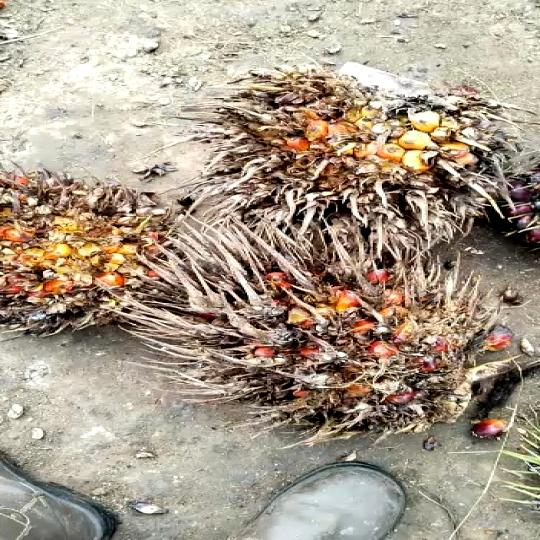terlalu masak: (99, 239, 540, 445), (188, 56, 523, 236)
